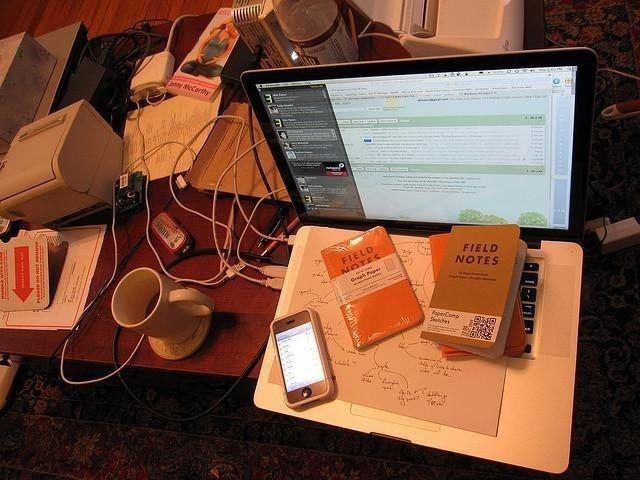cup-handle: (110, 265, 217, 348)
